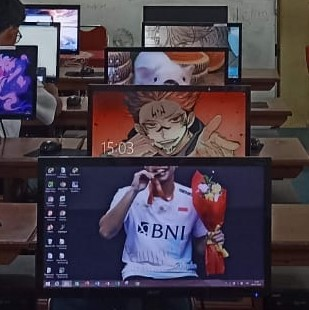monitor: (35, 155, 273, 303), (87, 84, 250, 159), (103, 47, 239, 86), (22, 5, 81, 55), (0, 45, 38, 122), (15, 22, 60, 83)
